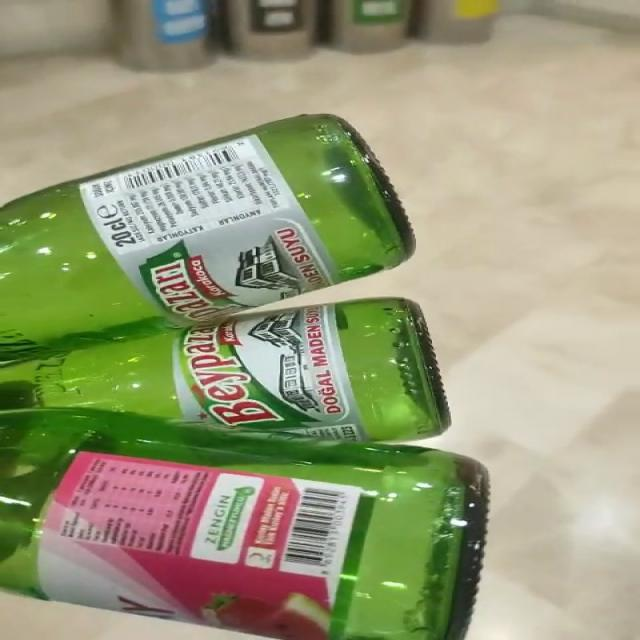glass: (0, 115, 488, 640)
